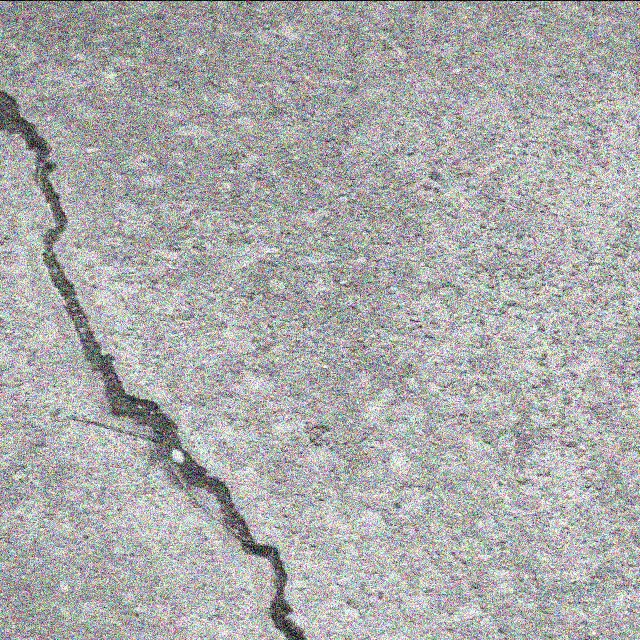SurfaceCrack: (2, 2, 352, 640)
